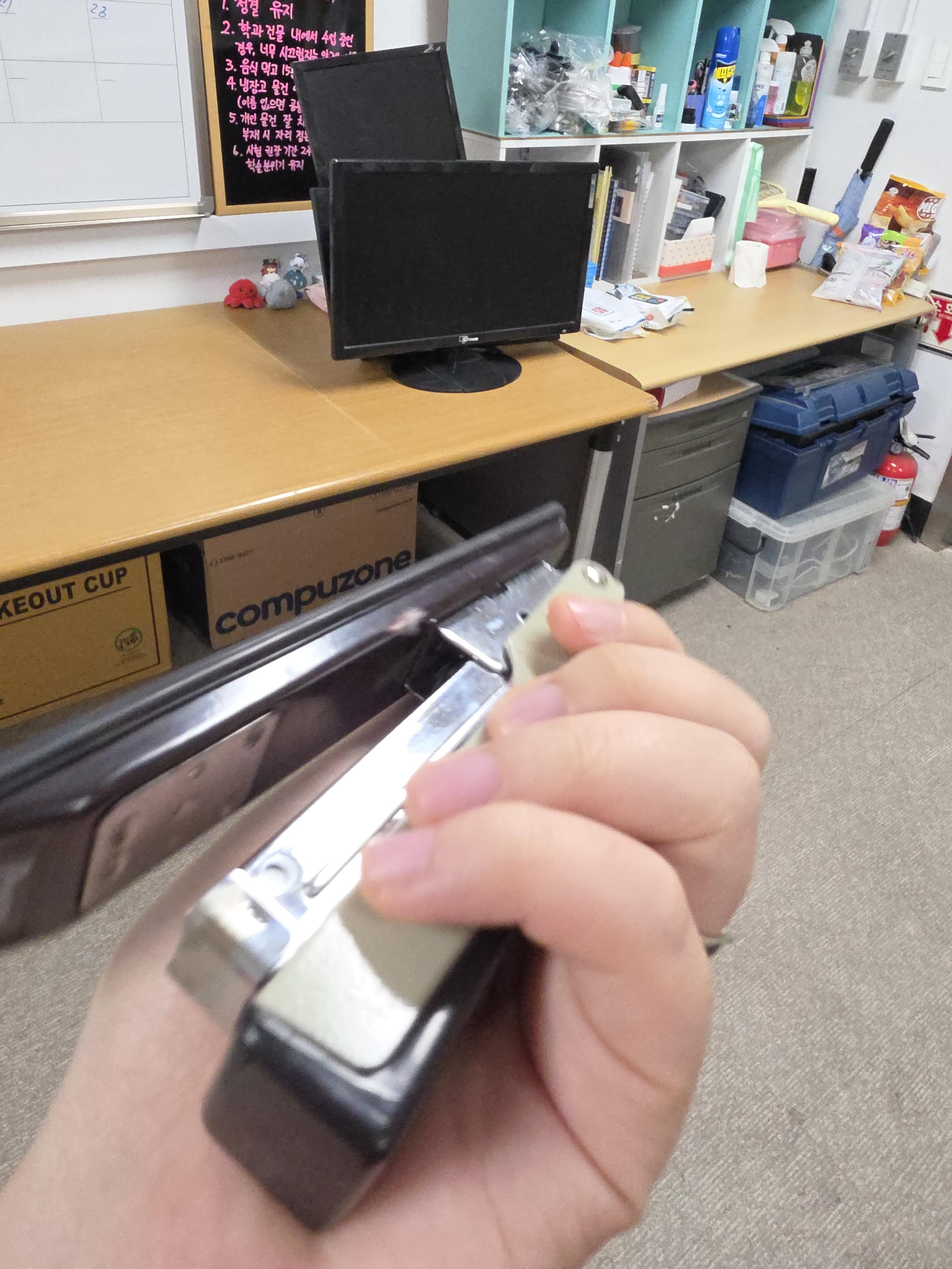stapler: (0, 500, 626, 1235)
tissue: (729, 240, 770, 289)
